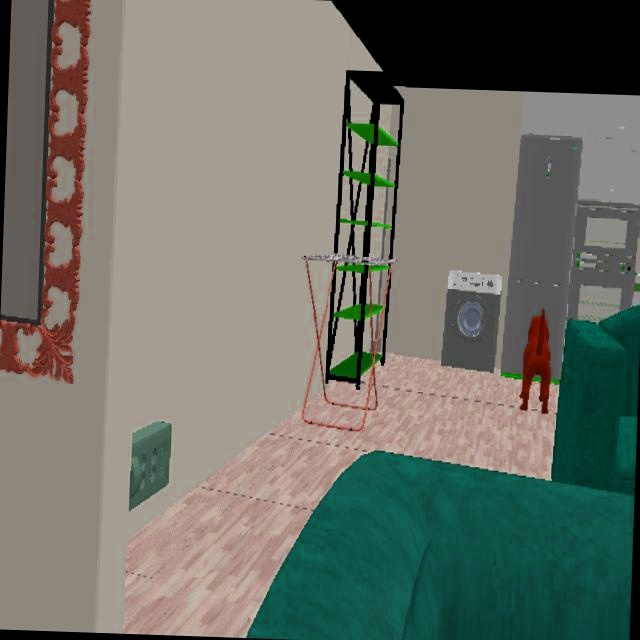cabinet: (523, 93, 640, 201)
fridge: (501, 135, 582, 379)
microwave: (574, 202, 639, 273)
oven: (568, 272, 632, 322)
shelf: (325, 71, 405, 386)
sofa: (248, 451, 633, 640), (552, 306, 640, 493)
